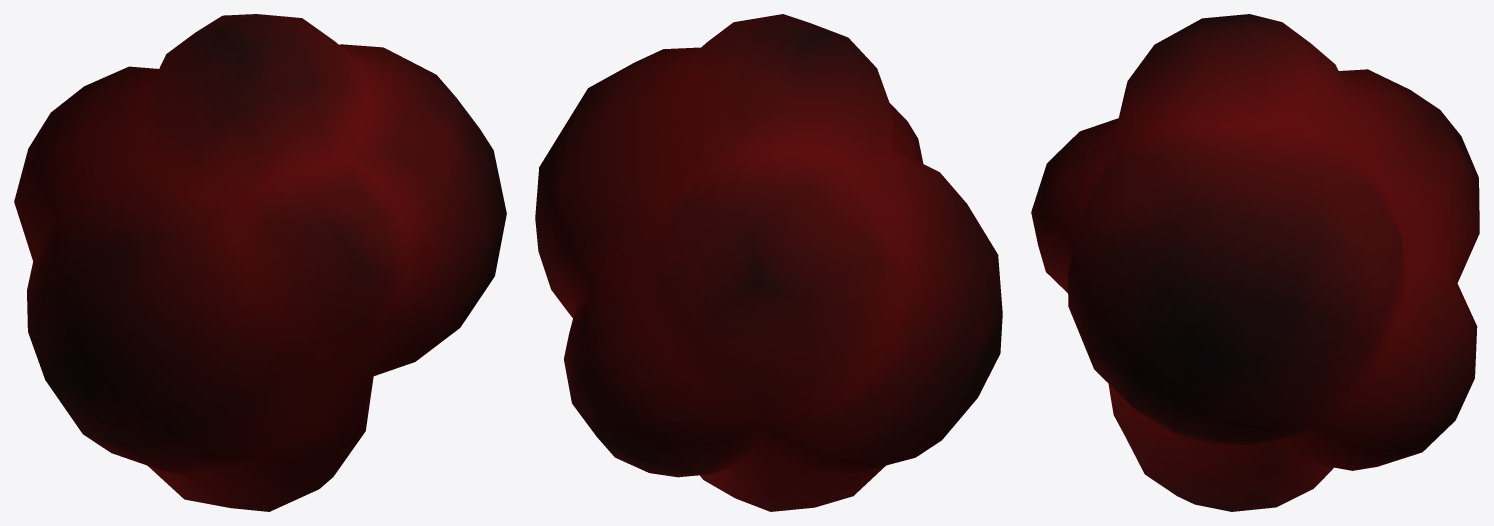
Rendered from SmokeBlobs.fbx.
The picture shows the model from 3 angles, left to right: view 1: azimuth 30°, elevation 25°; view 2: azimuth 150°, elevation 25°; view 3: azimuth 270°, elevation 25°; orthographic projection. The views are drawn at different scales.
Parts seen in each view (by area): view 1: smoke_tranfered; view 2: smoke_tranfered; view 3: smoke_tranfered.
Boxes of the visible parts, x1,y1,x2,y2 form: smoke_tranfered: [14, 14, 506, 511]; smoke_tranfered: [535, 14, 1002, 511]; smoke_tranfered: [1031, 14, 1479, 511].
Size of the model in its own units: 2.91 by 3.07 by 2.59.
